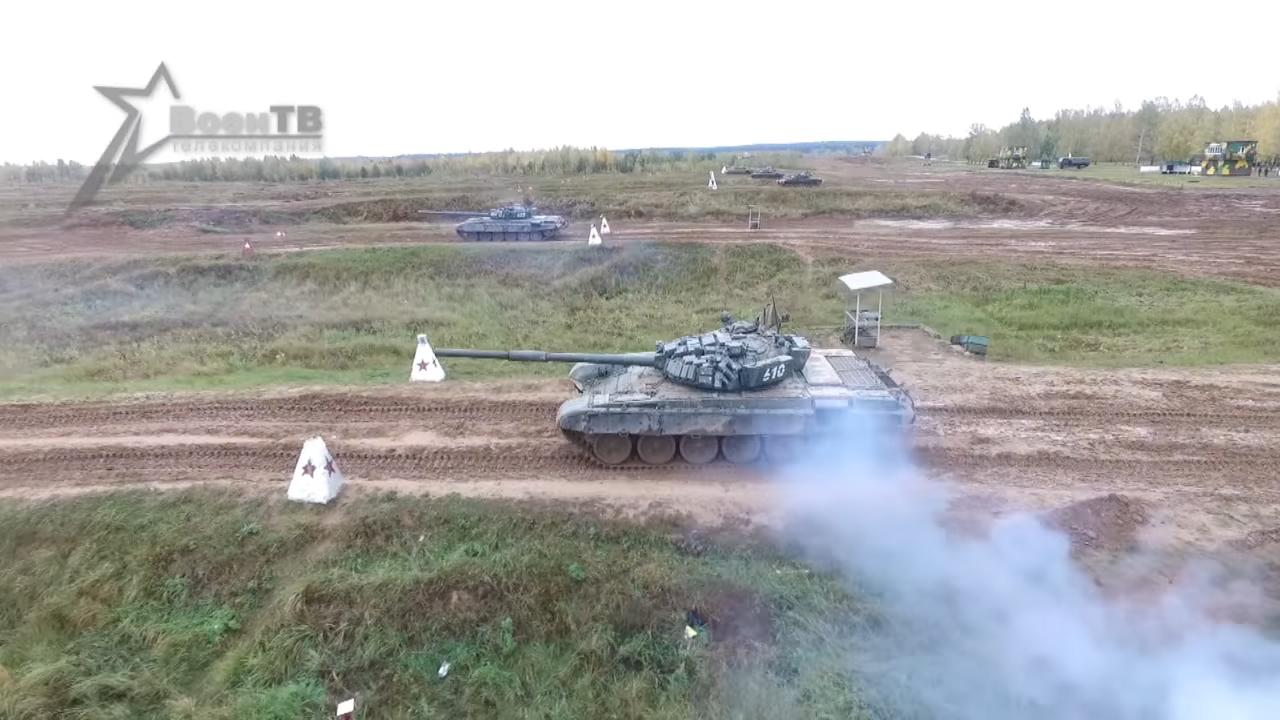tank: (433, 321, 918, 468), (418, 204, 568, 241), (775, 172, 824, 188)
